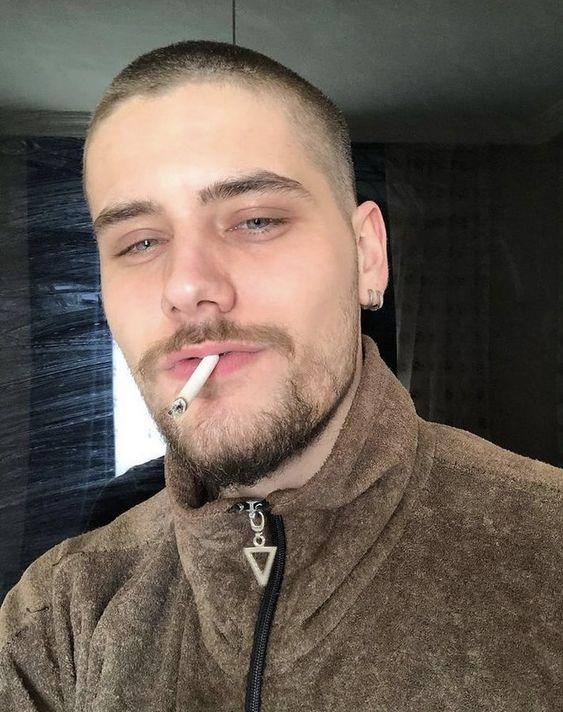cigarette: (168, 355, 220, 416)
